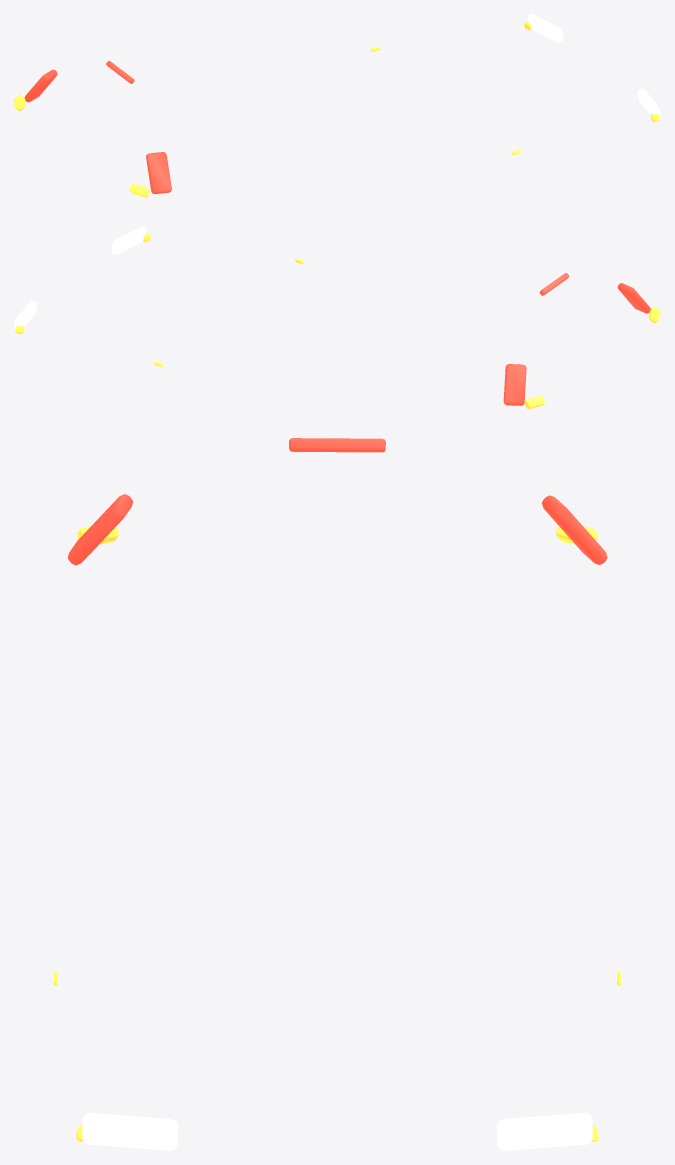
The model's file is Lights.glb.
The picture shows the model from 3 angles, top to bottom: view 1: azimuth 30°, elevation 25°; view 2: azimuth 150°, elevation 25°; view 3: azimuth 270°, elevation 25°; orthographic projection. The views are drawn at different scales.
Parts seen in each view (by area): view 1: Lights; view 2: Lights; view 3: Lights.
Boxes of the visible parts, x1,y1,x2,y2 form: Lights: (14,14,660,197); Lights: (14,226,660,409); Lights: (54,438,620,1150).
Bounding box in the file's own units: 3.81 × 0.8293 × 1.76.
